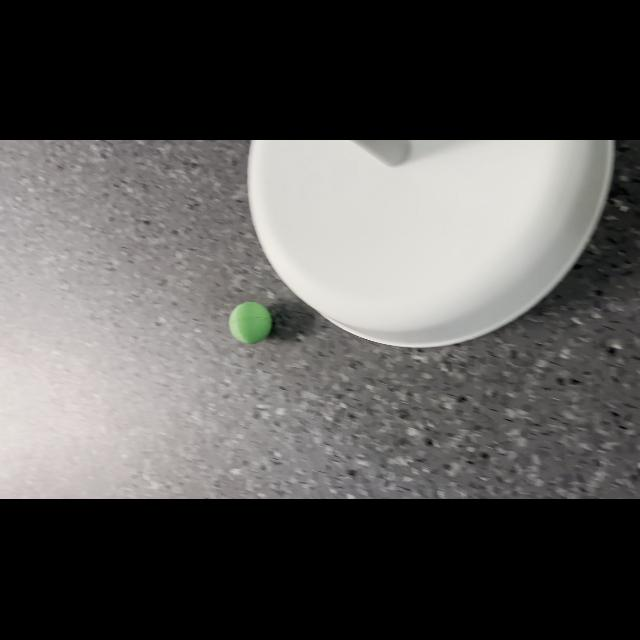objects: (224, 298, 278, 348)
